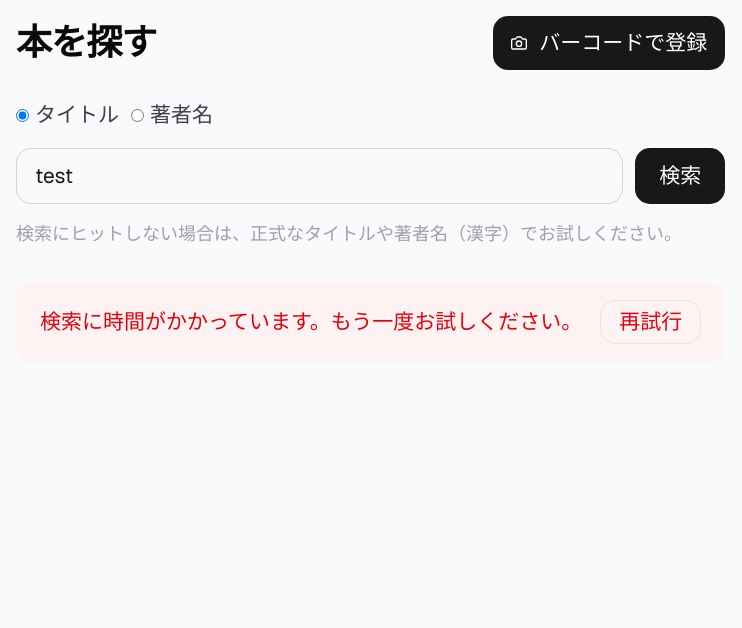
stalled fetch stops loading, retries successfully, and ignores its late response
The width and height of the screenshot is (742, 628).
Check: the text "検索に時間がかかっています。もう一度お試しください。" is shown, box [40,308,582,335]
Click the button "再試行" at (651, 322), box [600,300,701,344]
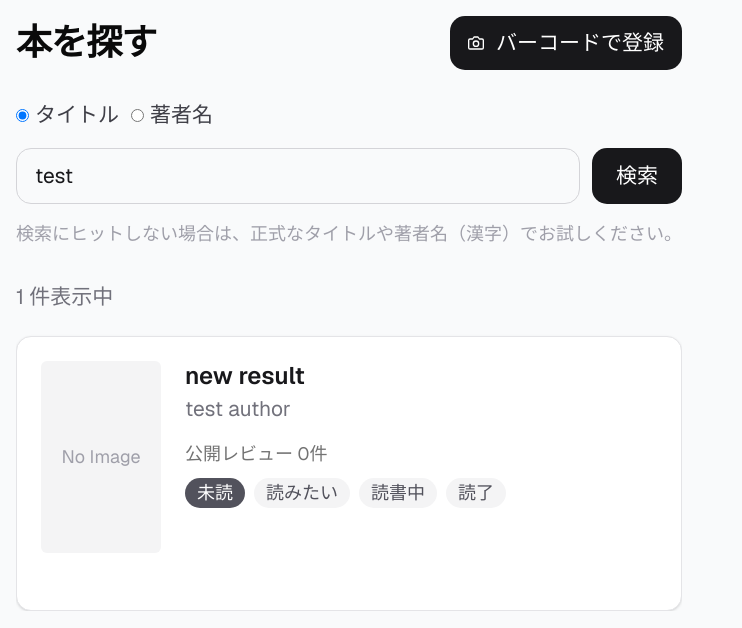
Check: the heading "new result" is shown, box [185,360,305,391]
